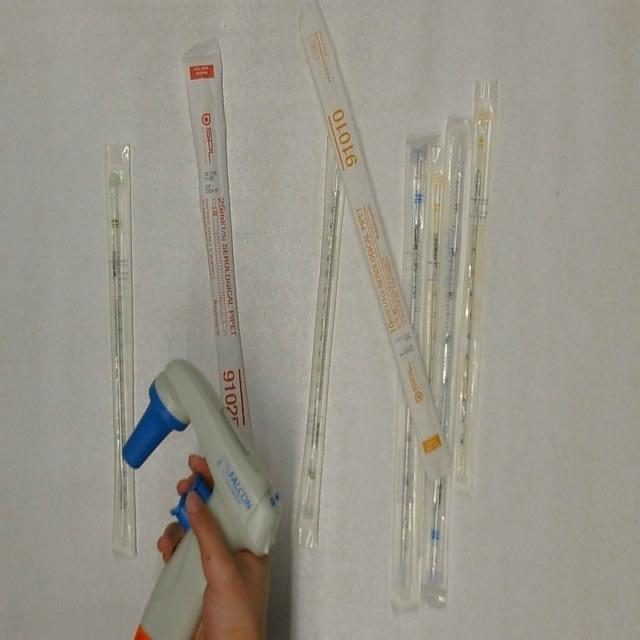Pipette Controller: (120, 352, 284, 640)
Serelogical Pipet 1 mL - Sealed: (466, 72, 496, 482), (417, 144, 453, 408)
Serelogical Pipet 10 mL - Sealed: (296, 0, 456, 484)
Serelogical Pipet 2 mL - Sealed: (289, 126, 355, 553), (104, 139, 140, 563)
Serelogical Pipet 25 mL - Sealed: (182, 35, 279, 534)
Serelogical Pipet 5 mL - Sealed: (421, 116, 473, 592), (388, 132, 429, 614)
